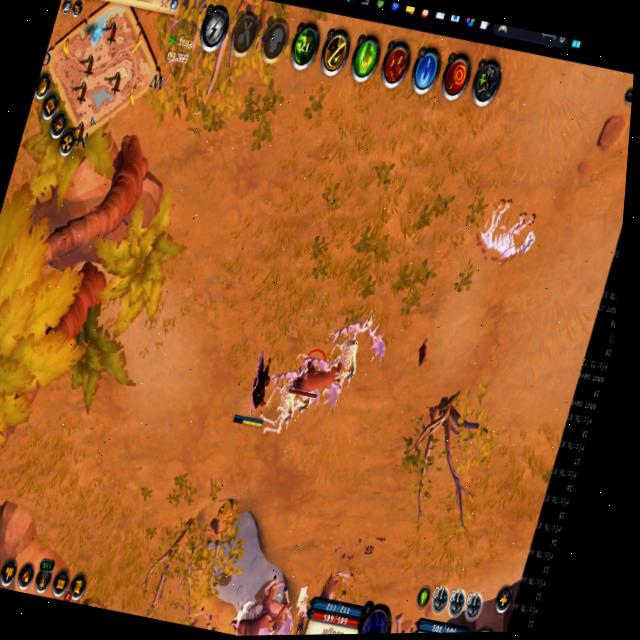hide: (285, 611, 320, 635)
mob: (248, 575, 301, 636), (227, 594, 281, 636)
ore: (280, 341, 350, 416)
red: (230, 346, 286, 432)
